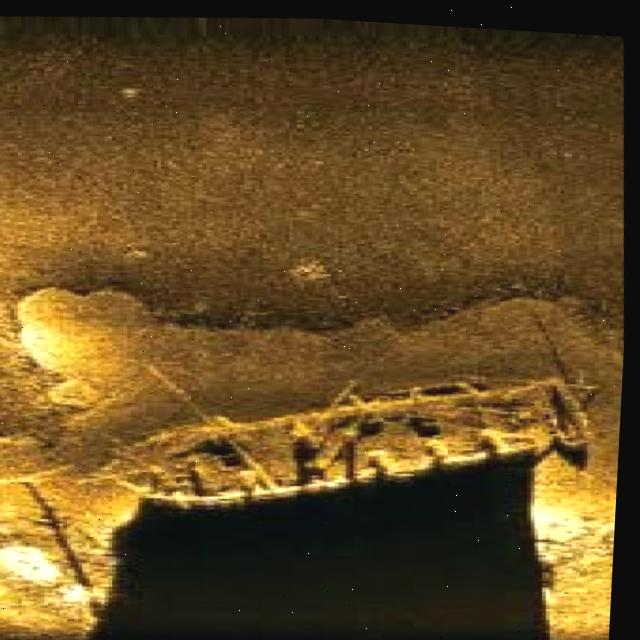shipwreck: (110, 356, 615, 535)
